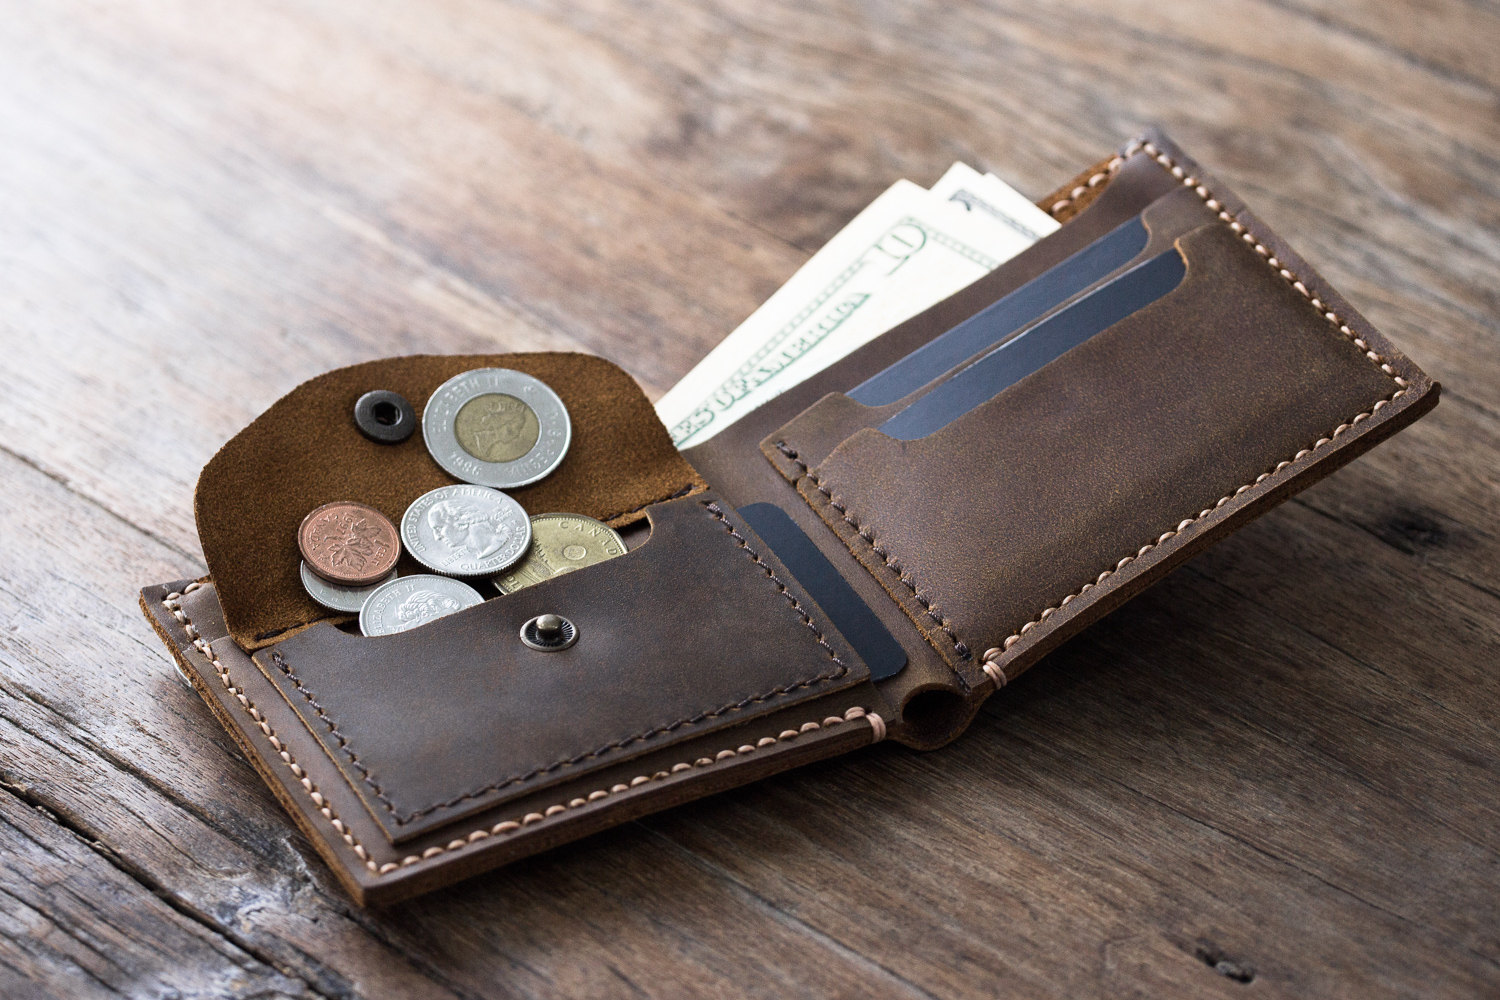monedero: (129, 121, 1446, 914)
